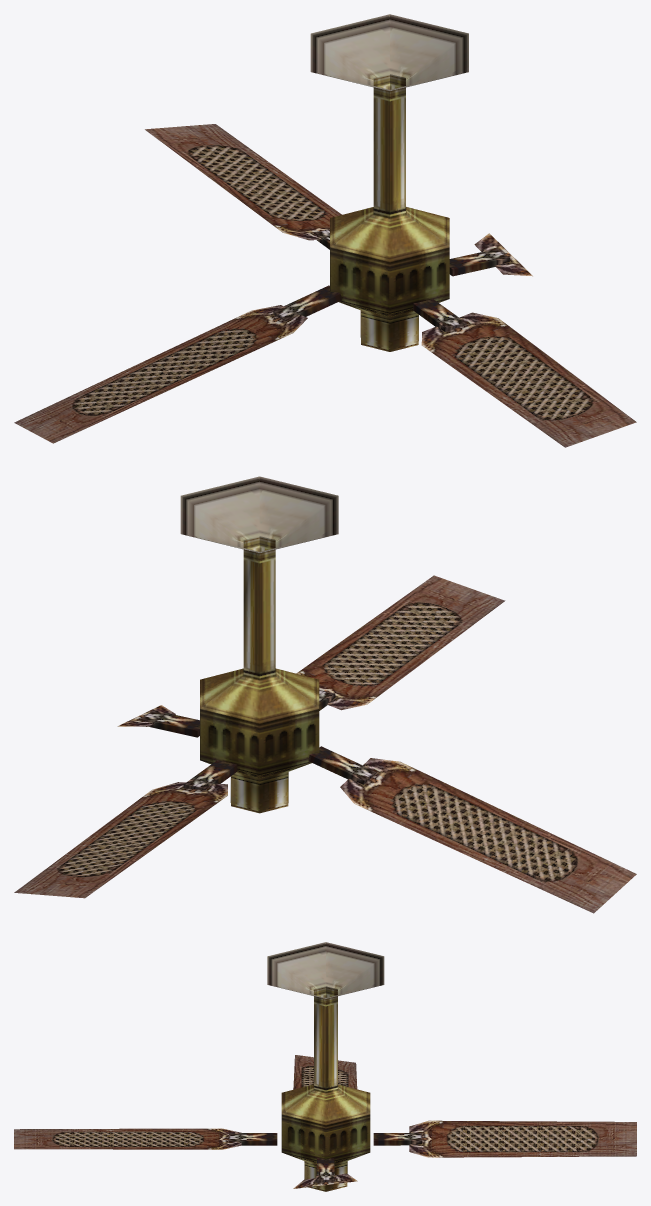
The model's file is Fan01.glb.
3 views of the same model, one above another, from view 1: azimuth 30°, elevation 25°; view 2: azimuth 150°, elevation 25°; view 3: azimuth 270°, elevation 25° (orthographic). The views are drawn at different scales.
Visible parts, largest first — view 1: _Fan01; view 2: _Fan01; view 3: _Fan01.
Part boxes in pixels (box(x1,y1,x2,y2)): _Fan01: box(14, 14, 636, 447); _Fan01: box(14, 476, 636, 913); _Fan01: box(14, 942, 636, 1191).
Bounding box in the file's own units: 1.4 × 0.8309 × 2.13.
1 material, 1 textured.
